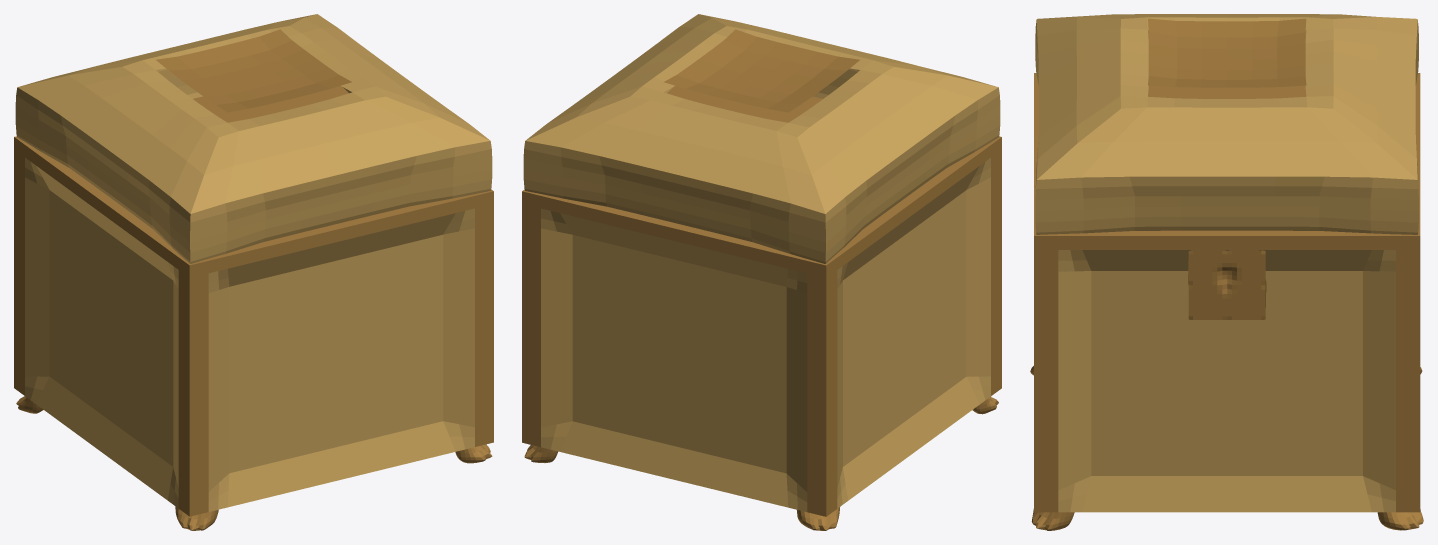
The model's file is pandora.glb.
3 renders of one model, left to right at view 1: azimuth 30°, elevation 25°; view 2: azimuth 150°, elevation 25°; view 3: azimuth 270°, elevation 25°, orthographic. The views are drawn at different scales.
Visible parts, largest first — view 1: Cube.004, Cube.001; view 2: Cube.004, Cube.001; view 3: Cube.004, Cube.001.
Part boxes in pixels (x1=…): Cube.004: x1=14, y1=86, x2=493, y2=530; Cube.001: x1=15, y1=14, x2=492, y2=263; Cube.004: x1=522, y1=86, x2=1001, y2=530; Cube.001: x1=523, y1=14, x2=1000, y2=263; Cube.004: x1=1030, y1=73, x2=1423, y2=530; Cube.001: x1=1035, y1=14, x2=1418, y2=234.
Size of the model in its own units: 2.18 by 2.44 by 2.17.
